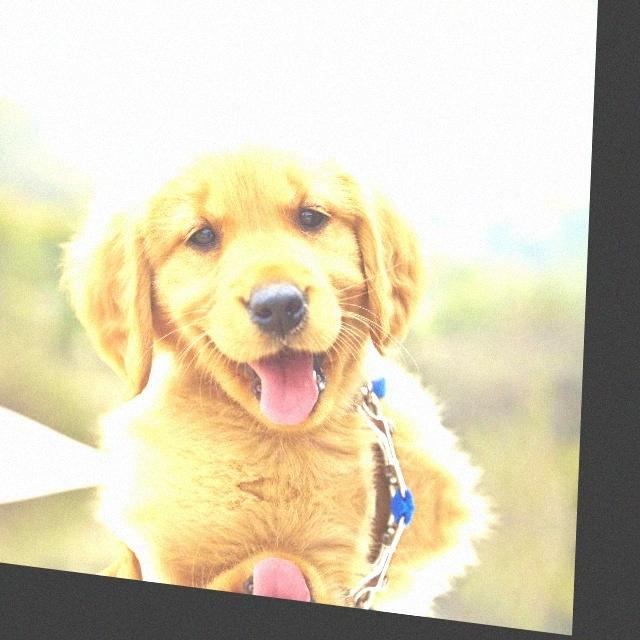dog: (35, 66, 456, 459), (29, 511, 438, 618), (52, 0, 462, 55)
